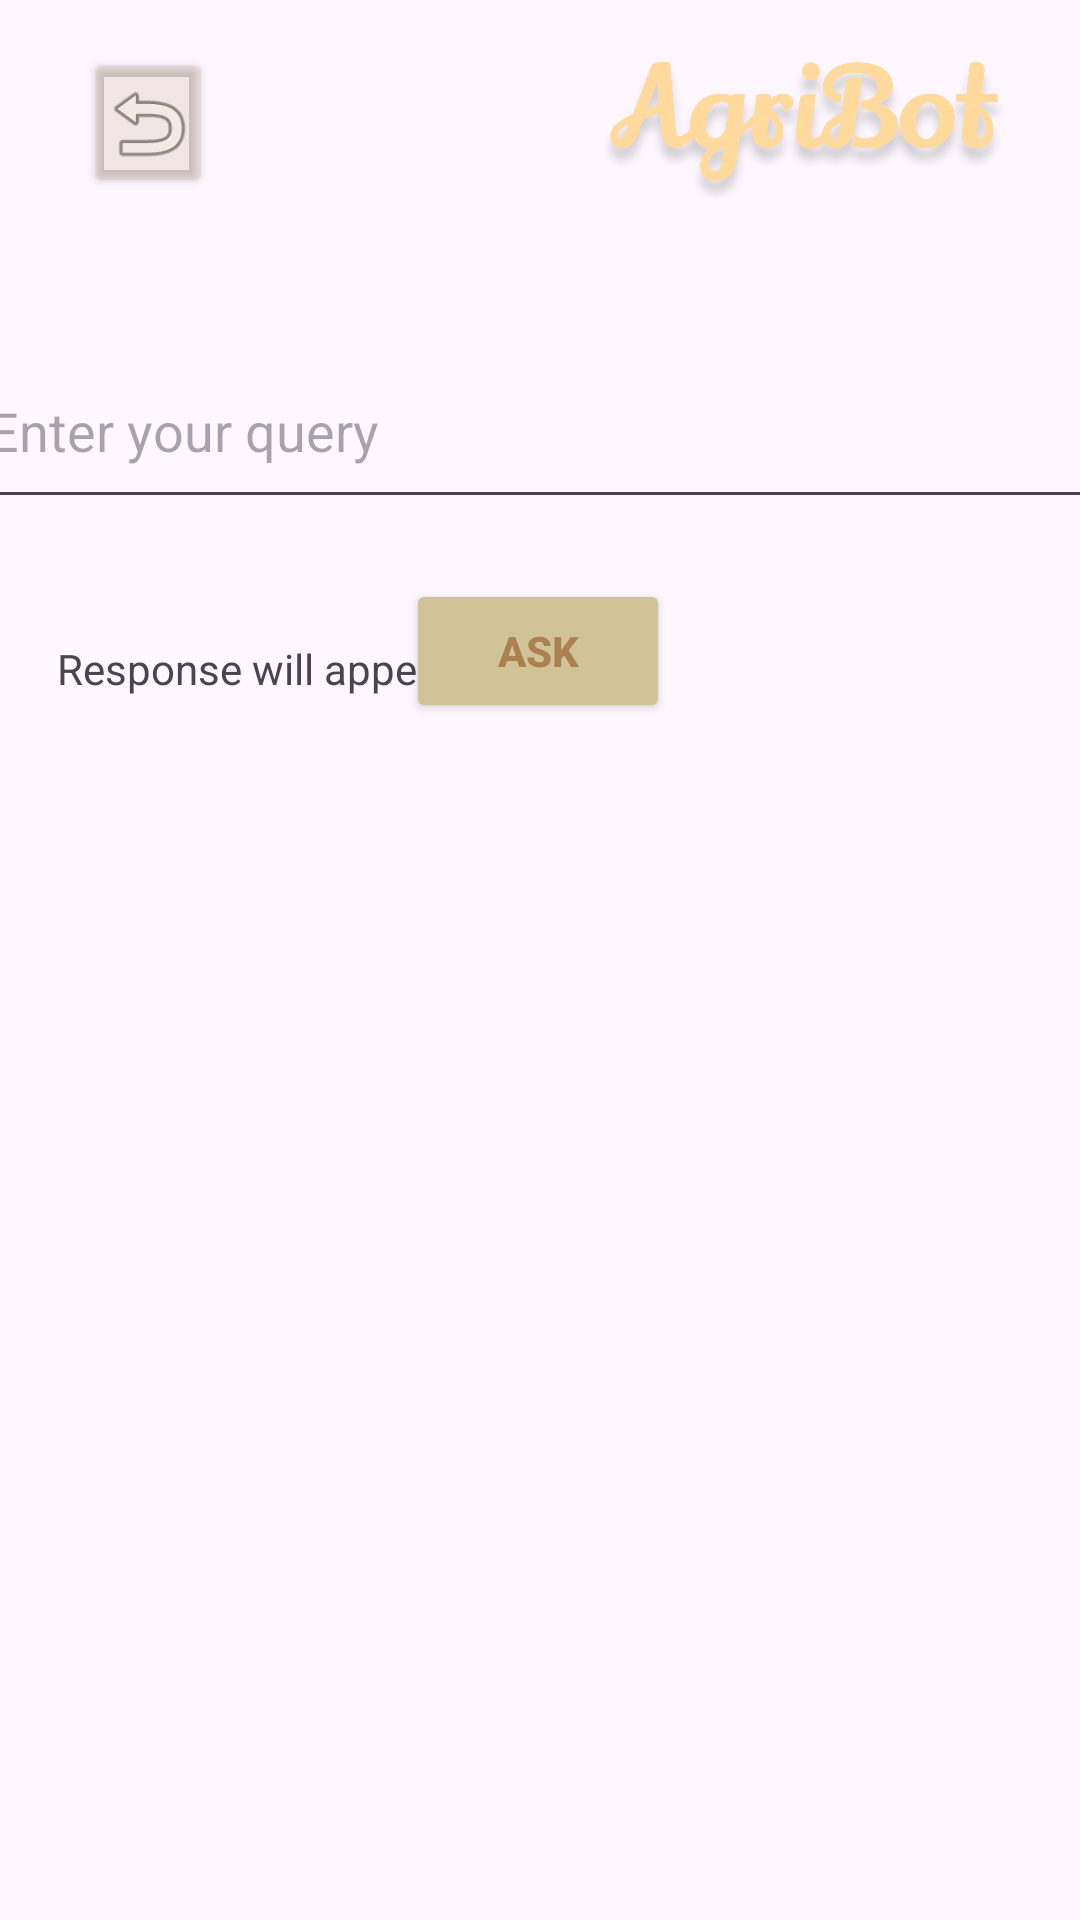

Named icons in this screenshot (1080 × 1920) and their centers, [x,y]:
revert: [148,123]
